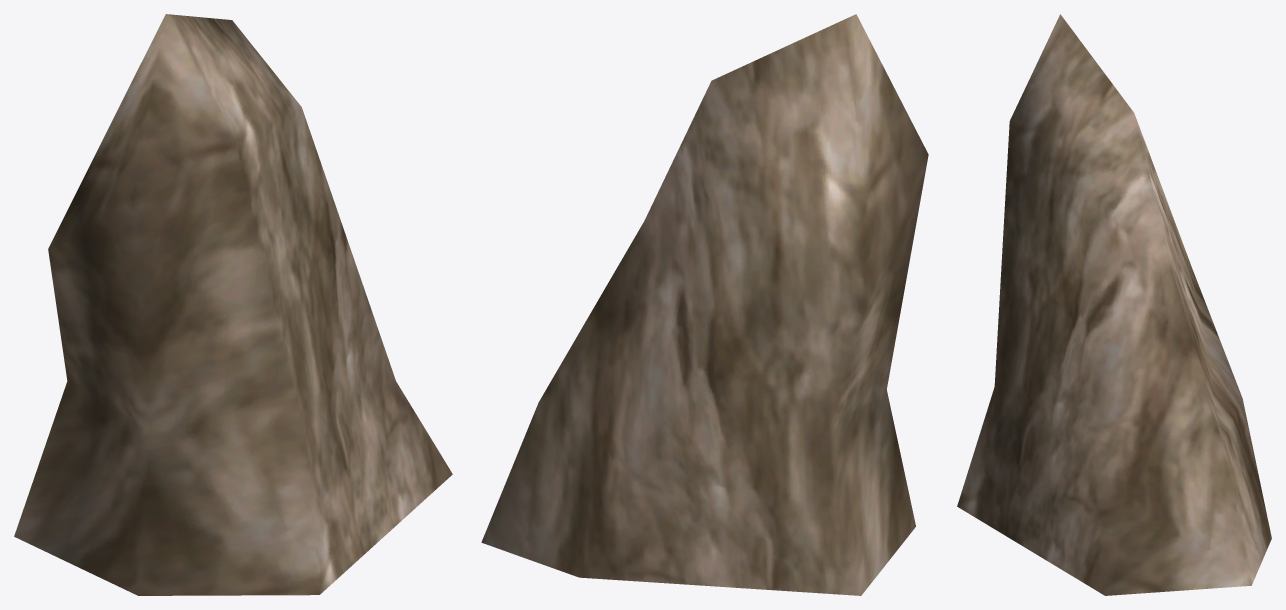
File: OVERHILL_A_01_ROCK29.fbx
3 renders of one model, left to right at view 1: azimuth 30°, elevation 25°; view 2: azimuth 150°, elevation 25°; view 3: azimuth 270°, elevation 25°, orthographic. The views are drawn at different scales.
Visible parts, largest first — view 1: OVERHILL_A_01_ROCK29; view 2: OVERHILL_A_01_ROCK29; view 3: OVERHILL_A_01_ROCK29.
Boxes of the visible parts, bbox=[...] form: OVERHILL_A_01_ROCK29: bbox=[14, 14, 452, 595]; OVERHILL_A_01_ROCK29: bbox=[481, 14, 928, 595]; OVERHILL_A_01_ROCK29: bbox=[957, 14, 1271, 595].
Bounding box in the file's own units: 28152 × 38133 × 23849.
1 material, 1 textured.
